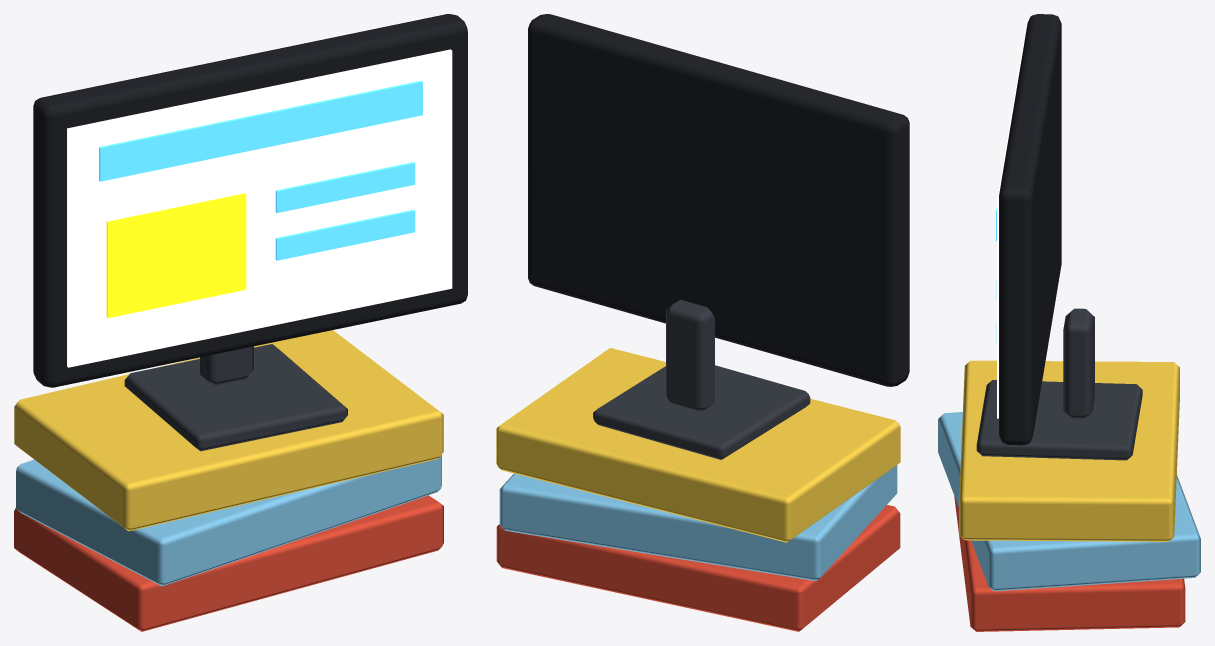
The model's file is station_processing_ausstattung_1_1.glb.
The picture shows the model from 3 angles, left to right: view 1: azimuth 30°, elevation 25°; view 2: azimuth 150°, elevation 25°; view 3: azimuth 270°, elevation 25°; orthographic projection. The views are drawn at different scales.
Parts seen in each view (by area): view 1: station_processing_ausstattung_1_1; view 2: station_processing_ausstattung_1_1; view 3: station_processing_ausstattung_1_1.
Part boxes in pixels (bbox=[...]): station_processing_ausstattung_1_1: bbox=[14, 14, 467, 631]; station_processing_ausstattung_1_1: bbox=[496, 14, 909, 631]; station_processing_ausstattung_1_1: bbox=[938, 14, 1200, 631].
Size of the model in its own units: 0.44 by 0.52 by 0.2686.
